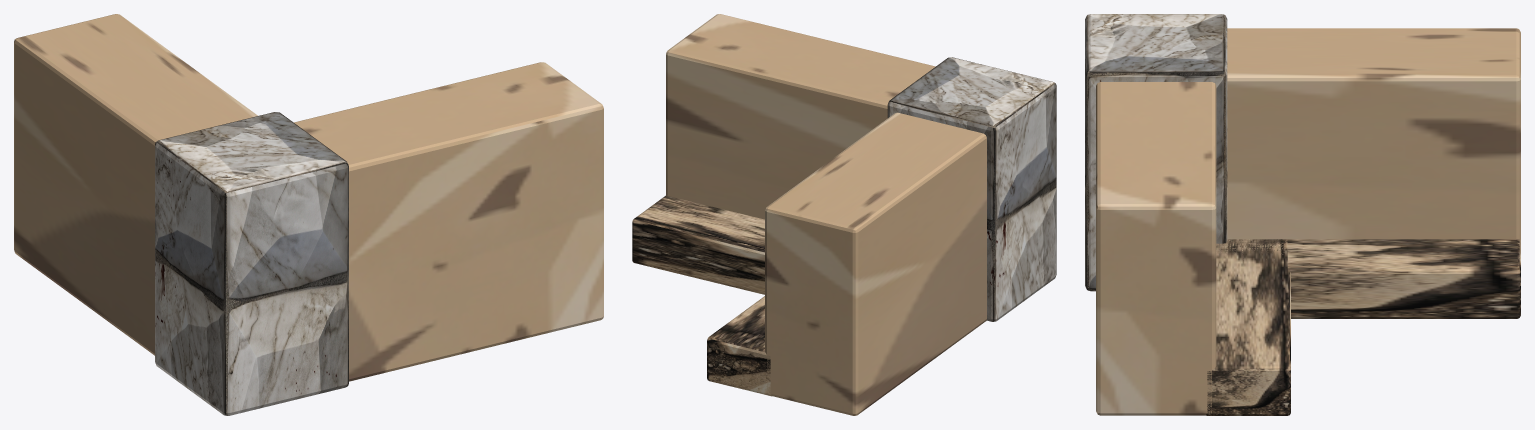
File: parapet_combat_corner_inner_LOD1.glb
3 renders of one model, left to right at view 1: azimuth 30°, elevation 25°; view 2: azimuth 150°, elevation 25°; view 3: azimuth 270°, elevation 25°, orthographic. The views are drawn at different scales.
Parts seen in each view (by area): view 1: LOD1_XWall, LOD1_Corner, LOD1_YWall; view 2: LOD1_YWall, LOD1_XWall, LOD1_Corner, LOD1_XStep, LOD1_YStep; view 3: LOD1_YWall, LOD1_XWall, LOD1_YStep, LOD1_Corner, LOD1_XStep.
Boxes of the visible parts, left/top/right/bottom form: LOD1_XWall: left=294, top=62, right=603, bottom=381; LOD1_Corner: left=155, top=112, right=348, bottom=415; LOD1_YWall: left=14, top=14, right=257, bottom=355; LOD1_YWall: left=765, top=112, right=986, bottom=415; LOD1_XWall: left=666, top=14, right=935, bottom=219; LOD1_Corner: left=887, top=57, right=1056, bottom=321; LOD1_XStep: left=632, top=195, right=764, bottom=294; LOD1_YStep: left=707, top=296, right=771, bottom=396; LOD1_YWall: left=1227, top=28, right=1520, bottom=240; LOD1_XWall: left=1096, top=82, right=1216, bottom=415; LOD1_YStep: left=1216, top=239, right=1520, bottom=318; LOD1_Corner: left=1085, top=14, right=1227, bottom=291; LOD1_XStep: left=1206, top=239, right=1290, bottom=415.
Bounding box in the file's own units: 2.39 × 1.34 × 2.39.
3 materials, 3 textured.
